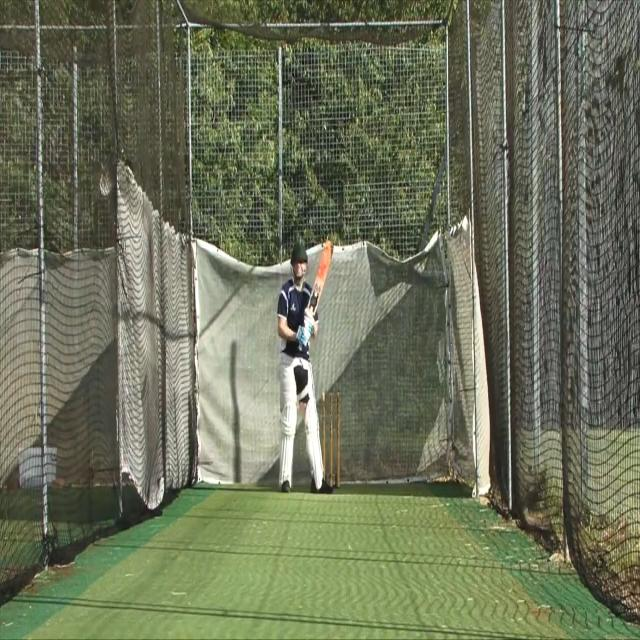batsman: (276, 236, 335, 496)
